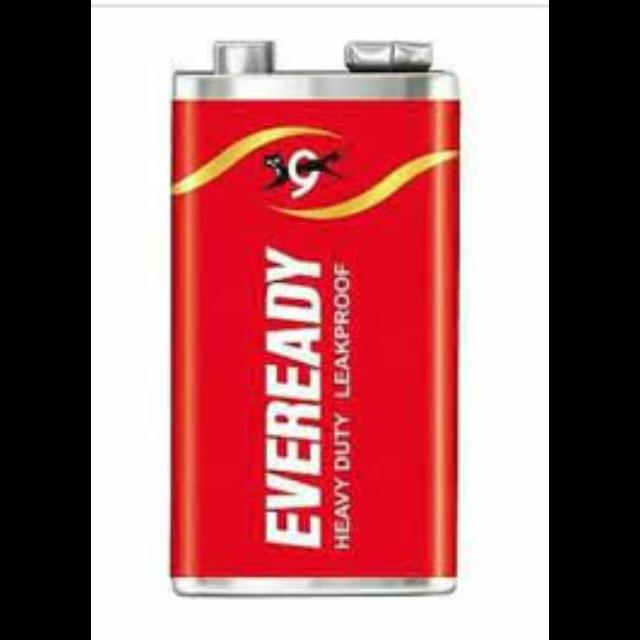Battery: (171, 41, 465, 604)
